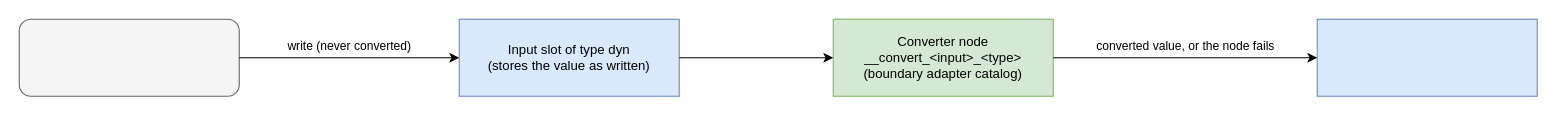
This 1557x116 diagram has some shape labels left out. Here are the shapes that lost their labels. From the top down, the centre of each, then its label:
At point (128, 57): "Host writes a value of any type (set_input)".
At point (1426, 57): "Consumers reading the target type".
